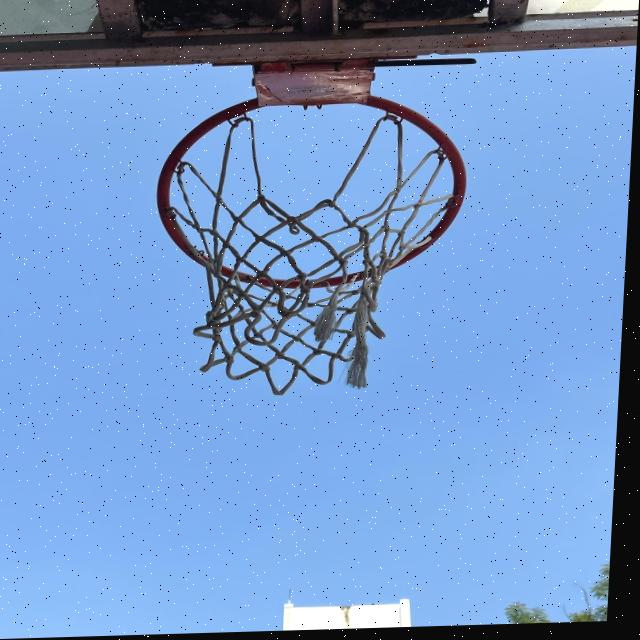hoop: (110, 40, 549, 403)
